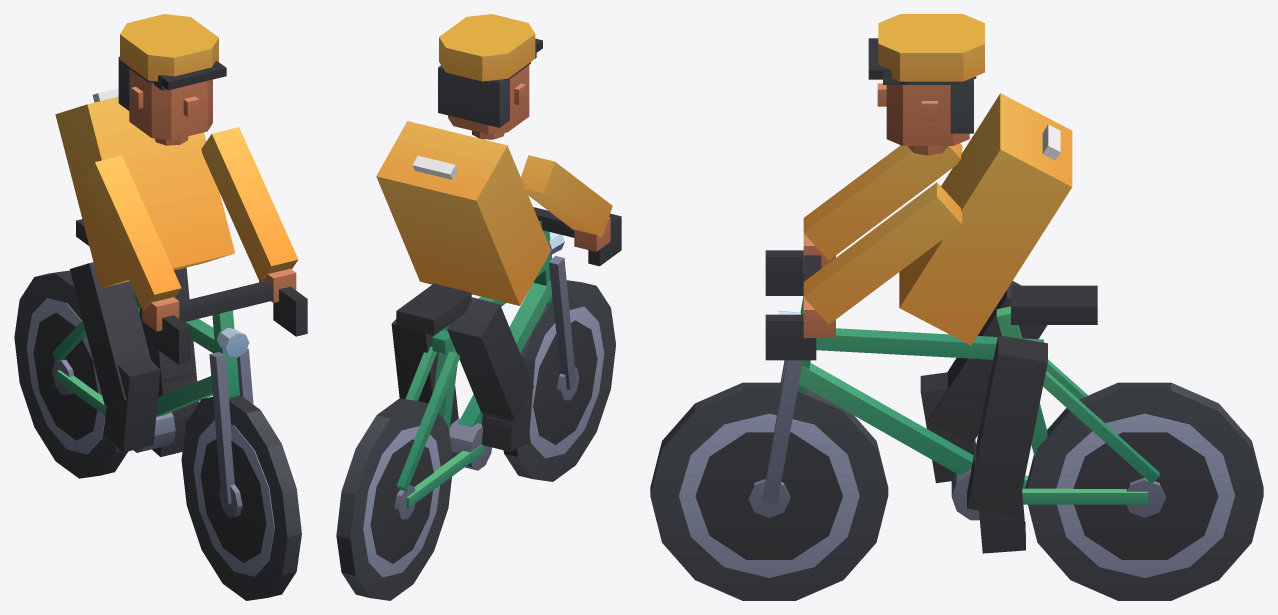
The model's file is cyclist_road.glb.
The picture shows the model from 3 angles, left to right: view 1: azimuth 30°, elevation 25°; view 2: azimuth 150°, elevation 25°; view 3: azimuth 270°, elevation 25°; orthographic projection. The views are drawn at different scales.
Visible parts, largest first — view 1: cyclist_road; view 2: cyclist_road; view 3: cyclist_road.
Boxes of the visible parts, x1=… form: cyclist_road: x1=14, y1=14, x2=307, y2=600; cyclist_road: x1=336, y1=14, x2=621, y2=600; cyclist_road: x1=650, y1=14, x2=1263, y2=600.
Size of the model in its own units: 0.518 by 1.72 by 1.7.
Materials: 1 (1 with a texture image).
